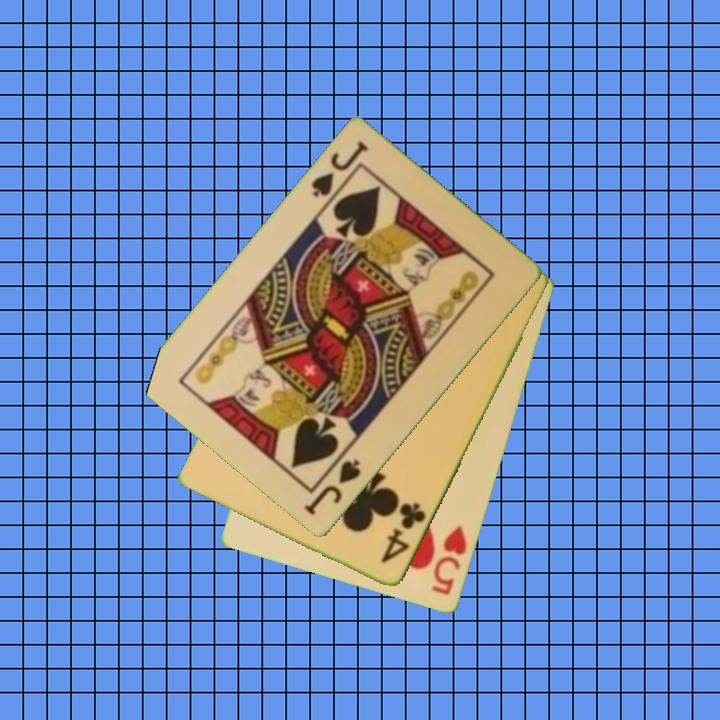4c: (378, 499, 429, 567)
5h: (429, 522, 470, 599)
Js: (308, 138, 372, 209), (301, 455, 364, 519)
